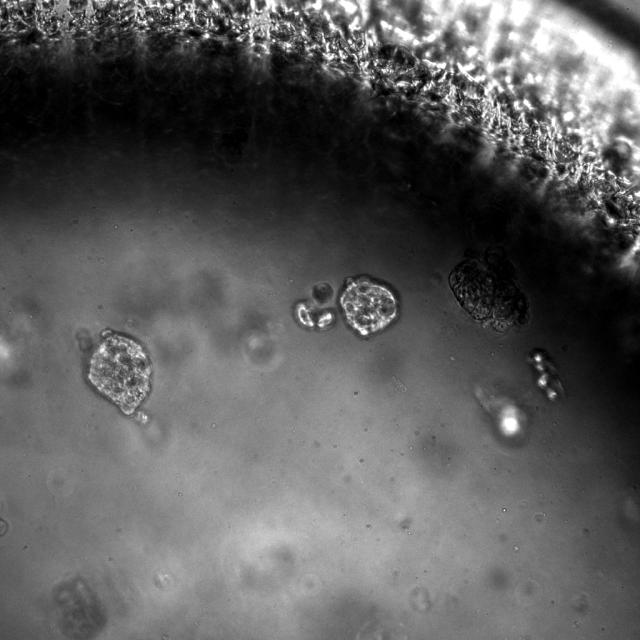organoid: (449, 245, 528, 332), (88, 329, 152, 416), (338, 276, 399, 336), (52, 575, 106, 639), (528, 348, 564, 399), (294, 301, 336, 330), (75, 328, 94, 354), (312, 282, 333, 304), (0, 517, 8, 536)
